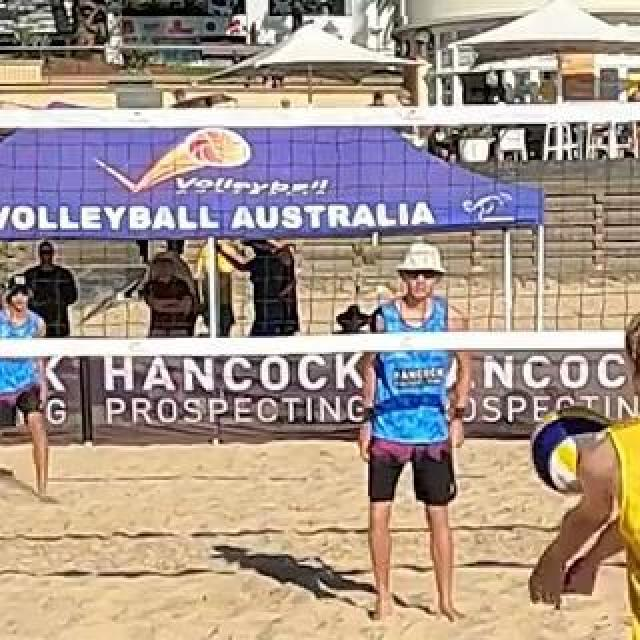volleyball: (530, 407, 616, 497)
